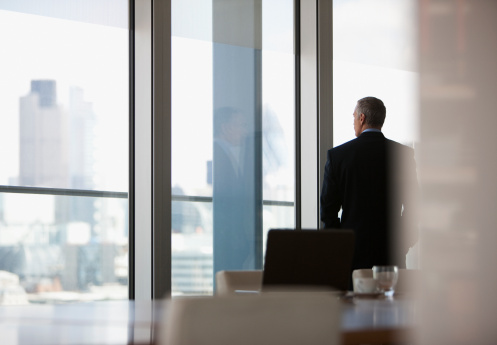em pe: (314, 91, 414, 270)
